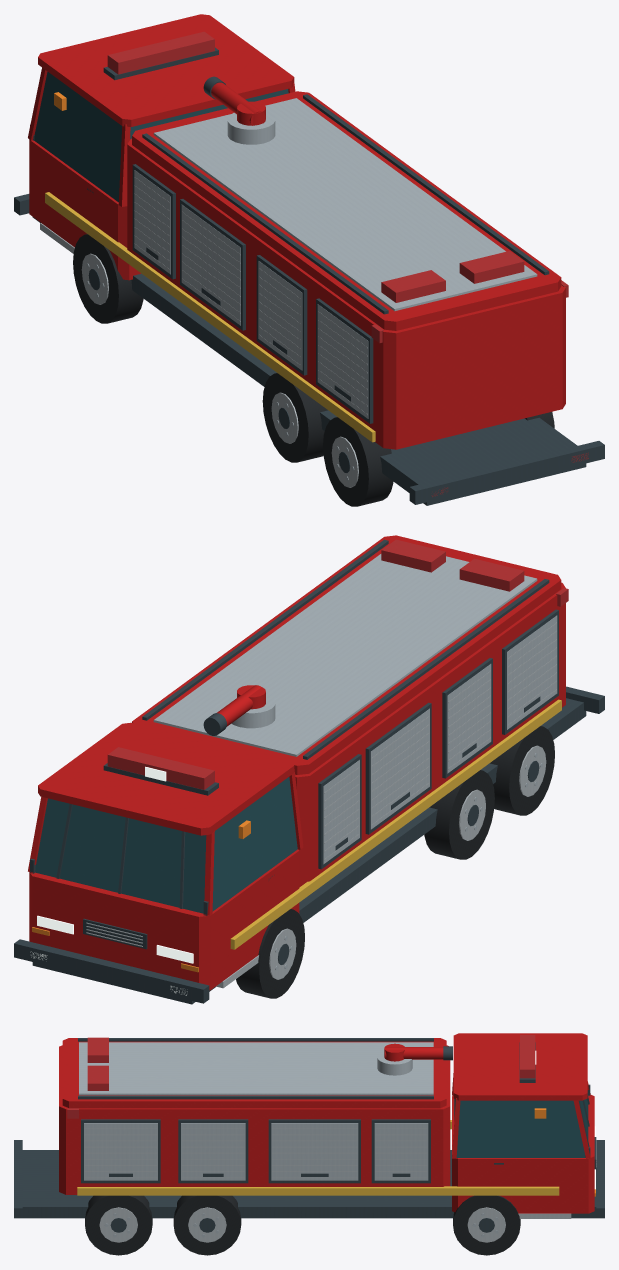
The model's file is vehicle_fire_truck.glb.
3 renders of one model, top to bottom at view 1: azimuth 30°, elevation 25°; view 2: azimuth 150°, elevation 25°; view 3: azimuth 270°, elevation 25°, orthographic. The views are drawn at different scales.
Parts seen in each view (by area): view 1: vehicle_fire_truck; view 2: vehicle_fire_truck; view 3: vehicle_fire_truck.
Boxes of the visible parts, x1,y1,x2,y2 form: vehicle_fire_truck: [14, 14, 604, 506]; vehicle_fire_truck: [14, 535, 604, 1004]; vehicle_fire_truck: [14, 1033, 604, 1255].
Bounding box in the file's own units: 3 × 3.6 × 11.
Materials: 10 (10 with a texture image).
